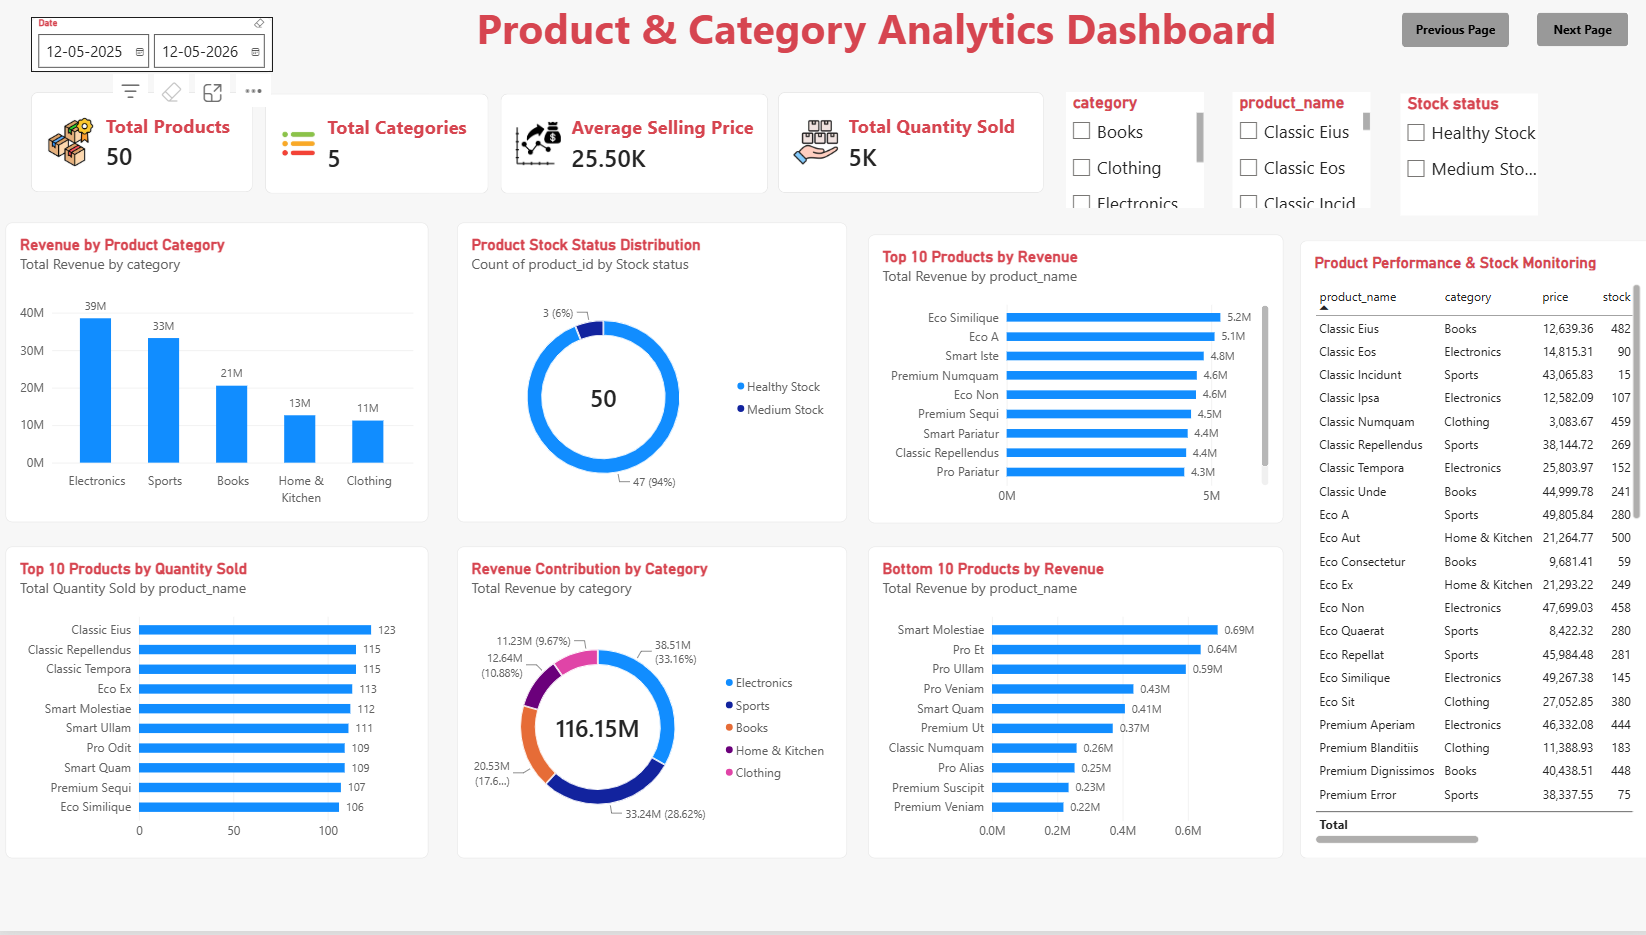

What the dashboard file says about the page in this screenshot:
{"tool":"powerbi","page":{"name":"Product & Category Analytics","canvas":[1920,1080],"ordinal":2},"visuals":[{"type":"textbox","box":[554.5,0,955.8,83.9],"z":0},{"type":"cardVisual","fields":{"Data":["products.Total Products"]},"box":[37.6,107.4,257.8,116.3],"z":1000},{"type":"cardVisual","fields":{"Data":["products.Total Categories"]},"box":[309.7,109.2,259.5,116.3],"z":2000},{"type":"cardVisual","fields":{"Data":["products.Average Product Price"]},"box":[581.8,109.4,310.1,116.7],"z":3000},{"type":"cardVisual","fields":{"Data":["order_items.Total Quantity Sold"]},"box":[903.9,107.4,308.4,117.2],"z":4000},{"type":"clusteredColumnChart","title":"Revenue by Product Category","fields":{"Category":["products.category"],"Y":["order_items.Total Revenue"]},"box":[8.7,259,490.1,347.6],"z":5000},{"type":"clusteredBarChart","title":"Top 10 Products by Revenue","fields":{"Category":["products.product_name"],"Y":["order_items.Total Revenue"]},"box":[1007.7,272.1,481.5,334.7],"z":6000},{"type":"clusteredBarChart","title":"Bottom 10 Products by Revenue","fields":{"Category":["products.product_name"],"Y":["order_items.Total Revenue"]},"box":[1008.1,634.4,481.5,361.5],"z":7000},{"type":"clusteredBarChart","title":"Top 10 Products by Quantity Sold","fields":{"Category":["products.product_name"],"Y":["order_items.Total Quantity Sold"]},"box":[8.7,634.4,490.1,361.5],"z":8000},{"type":"donutChart","title":"Product Stock Status Distribution","fields":{"Category":["products.Stock status"],"Y":["CountNonNull(products.product_id)"]},"box":[531.9,259,451.9,347.6],"z":9000},{"type":"donutChart","title":"Revenue Contribution by Category","fields":{"Category":["products.category"],"Y":["order_items.Total Revenue"]},"box":[531.9,634.4,451.9,361.5],"z":10000},{"type":"tableEx","title":"Product Performance & Stock Monitoring","fields":{"Values":["products.product_name","products.category","products.price","products.stock","products.Stock status","order_items.Total Revenue","order_items.Total Quantity Sold"]},"box":[1508.9,279.2,411.7,716],"z":11000},{"type":"slicer","fields":{"Values":["DateTable.Date"]},"box":[38.3,20.1,279.2,64.4],"z":12000},{"type":"slicer","fields":{"Values":["products.category"]},"box":[1236.9,107.4,159.3,134.2],"z":13000},{"type":"slicer","fields":{"Values":["products.product_name"]},"box":[1430.2,107.4,159.3,134.2],"z":14000},{"type":"slicer","fields":{"Values":["products.Stock status"]},"box":[1625.3,109.2,159.3,141.4],"z":15000},{"type":"actionButton","box":[1783.8,16.4,105.7,39.4],"z":15001},{"type":"actionButton","box":[1627,16.4,124,40.1],"z":15002}]}

Visuals, with their boxes on the page's 1920x1080 design canvas (x1, y1, x2, y2). These are canvas units, not pixel positions in the 1646x935 screenshot, which may show the page scaled, cropped or inside an application window:
textbox: (554, 0, 1510, 84)
cardVisual - products.Total Products: (38, 107, 295, 224)
cardVisual - products.Total Categories: (310, 109, 569, 226)
cardVisual - products.Average Product Price: (582, 109, 892, 226)
cardVisual - order_items.Total Quantity Sold: (904, 107, 1212, 225)
"Revenue by Product Category" clusteredColumnChart: (9, 259, 499, 607)
"Top 10 Products by Revenue" clusteredBarChart: (1008, 272, 1489, 607)
"Bottom 10 Products by Revenue" clusteredBarChart: (1008, 634, 1490, 996)
"Top 10 Products by Quantity Sold" clusteredBarChart: (9, 634, 499, 996)
"Product Stock Status Distribution" donutChart: (532, 259, 984, 607)
"Revenue Contribution by Category" donutChart: (532, 634, 984, 996)
"Product Performance & Stock Monitoring" tableEx: (1509, 279, 1921, 995)
slicer - DateTable.Date: (38, 20, 318, 84)
slicer - products.category: (1237, 107, 1396, 242)
slicer - products.product_name: (1430, 107, 1590, 242)
slicer - products.Stock status: (1625, 109, 1785, 251)
actionButton: (1784, 16, 1890, 56)
actionButton: (1627, 16, 1751, 56)
